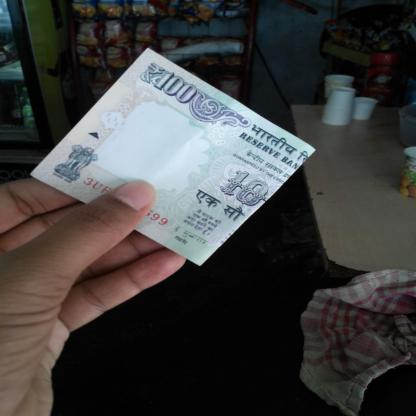Old100Front: (30, 47, 317, 267)
